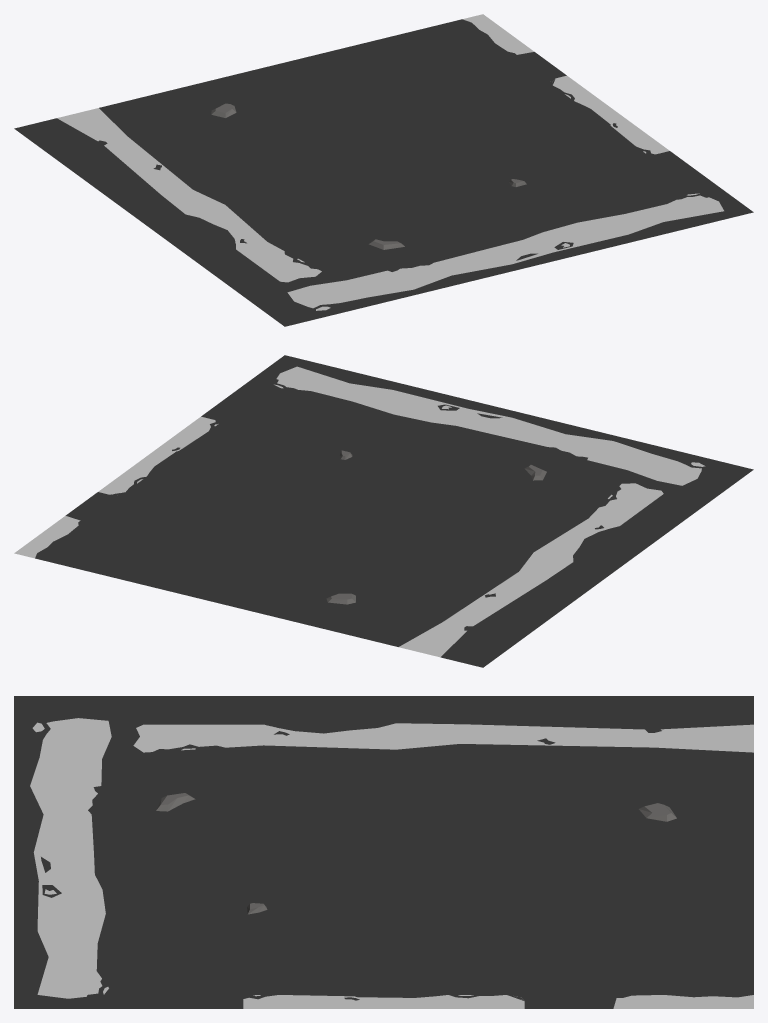
File: Asphalt_16.FBX
3 renders of one model, top to bottom at view 1: azimuth 30°, elevation 25°; view 2: azimuth 150°, elevation 25°; view 3: azimuth 270°, elevation 25°, orthographic. The views are drawn at different scales.
Parts seen in each view (by area): view 1: Asphalt_16; view 2: Asphalt_16; view 3: Asphalt_16.
Boxes of the visible parts, x1=… form: Asphalt_16: x1=14, y1=14, x2=753, y2=326; Asphalt_16: x1=14, y1=355, x2=753, y2=667; Asphalt_16: x1=14, y1=696, x2=753, y2=1008.
Size of the model in its own units: 5 by 0.03 by 5.
